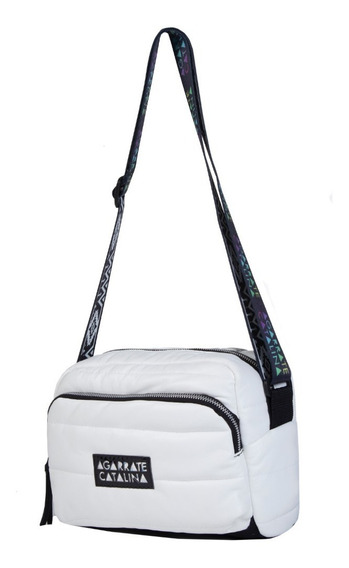cartera: (39, 26, 302, 539)
